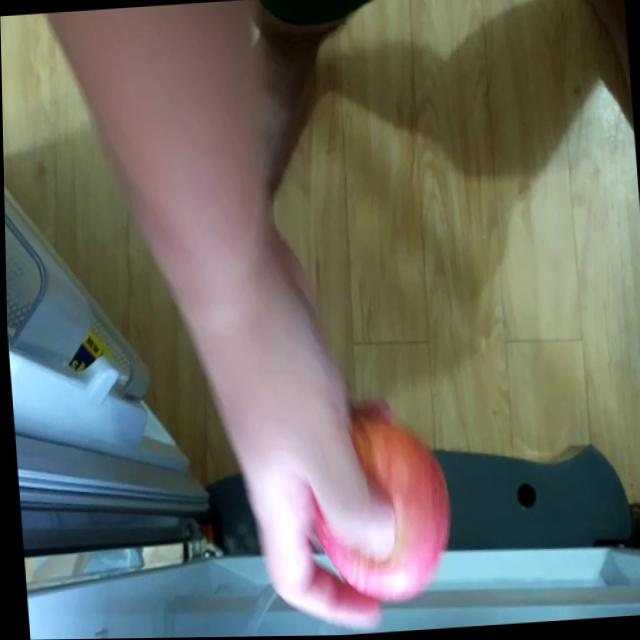apple: (308, 414, 459, 602)
